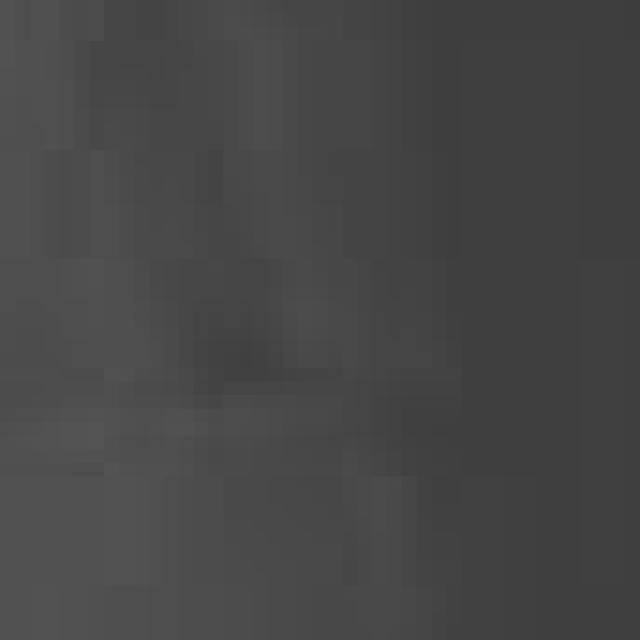fracture: (2, 8, 640, 640)
